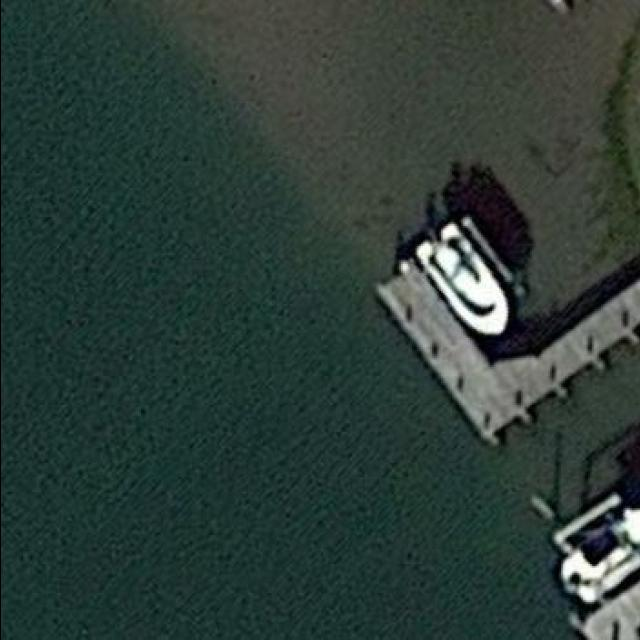ship: (415, 215, 509, 338)
